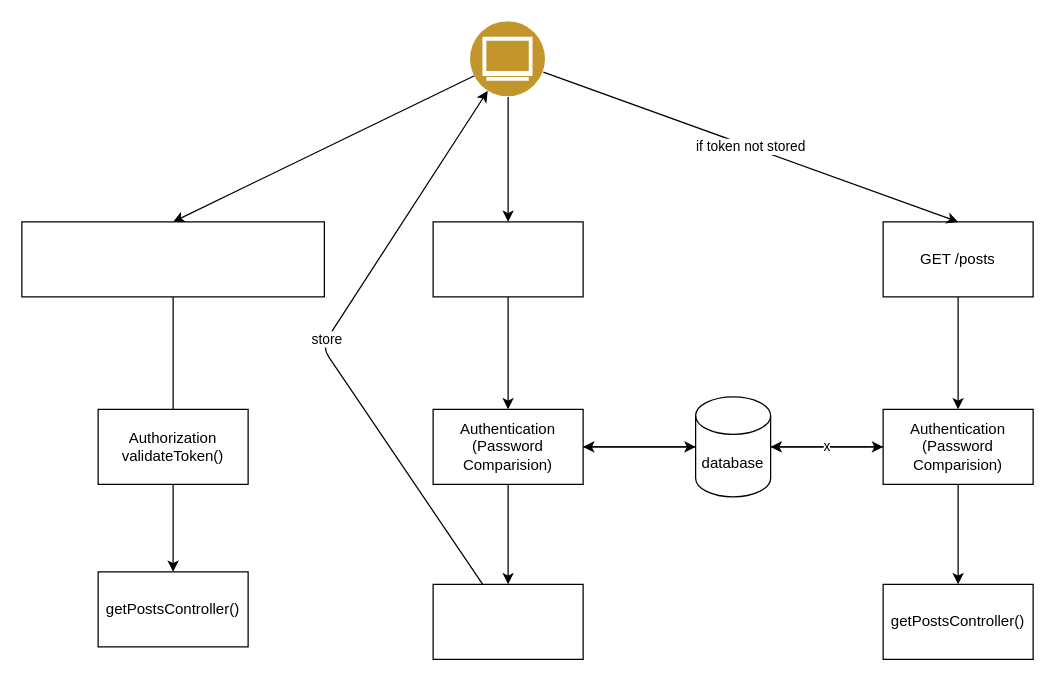
The diagram is 1055 pixels wide and 681 high, and some of its shapes have lost their labels. Here are the shapes that lost their labels. From the top down, the centre of each, then its label:
the point at 507,58: browser
the point at 172,259: HEADERS auth-token -> xxxxxxxxx COOKIES auth-token -> xxxxxxxxx GET /posts
the point at 507,259: /login
the point at 507,621: Token Generation (Generate Reusable Token) 1d
